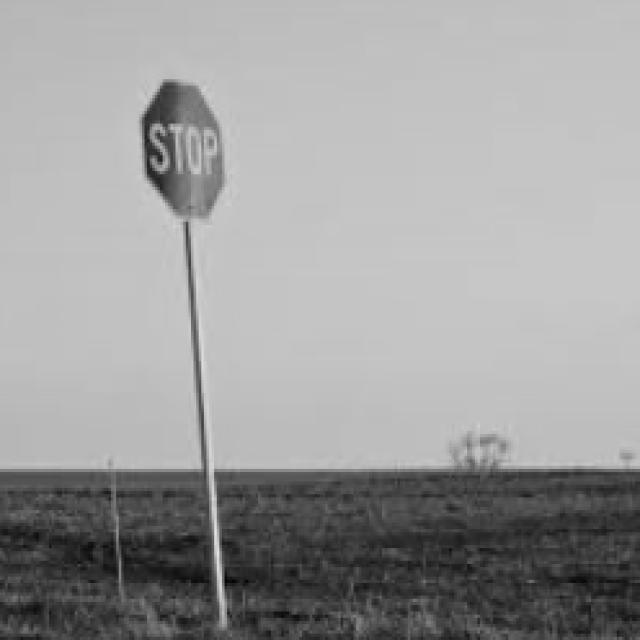Stop-signs: (138, 77, 228, 218)
